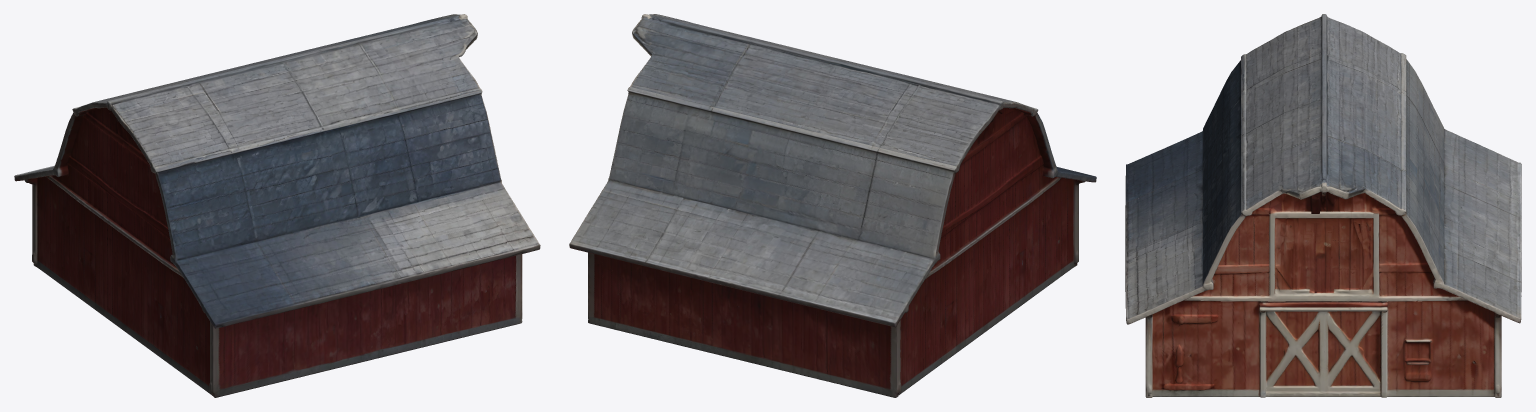
The model's file is building-barn.glb.
The picture shows the model from 3 angles, left to right: view 1: azimuth 30°, elevation 25°; view 2: azimuth 150°, elevation 25°; view 3: azimuth 270°, elevation 25°; orthographic projection. The views are drawn at different scales.
Parts seen in each view (by area): view 1: tripo_node_d14513f5-14bd-4df9-a82f-d76c8a29fa44; view 2: tripo_node_d14513f5-14bd-4df9-a82f-d76c8a29fa44; view 3: tripo_node_d14513f5-14bd-4df9-a82f-d76c8a29fa44.
Part boxes in pixels (left/top/right/bottom): tripo_node_d14513f5-14bd-4df9-a82f-d76c8a29fa44: left=14, top=14, right=540, bottom=397; tripo_node_d14513f5-14bd-4df9-a82f-d76c8a29fa44: left=569, top=14, right=1096, bottom=397; tripo_node_d14513f5-14bd-4df9-a82f-d76c8a29fa44: left=1125, top=14, right=1521, bottom=397.
Bounding box in the file's own units: 12.83 × 8 × 12.5.
1 material, 1 textured.
